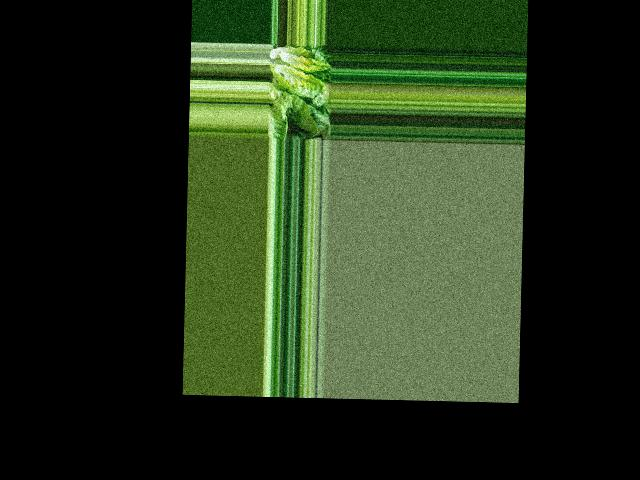lettuce: (267, 45, 328, 107)
